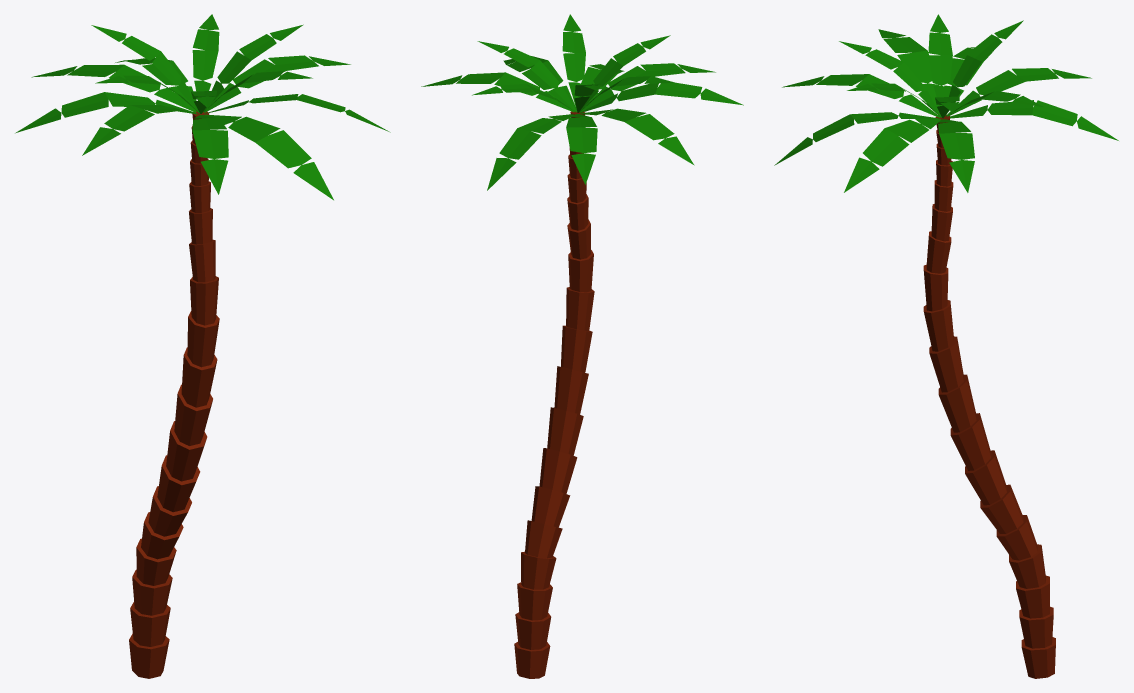
The model's file is palm_tree_2.obj.
3 views of the same model, side by side, from view 1: azimuth 30°, elevation 25°; view 2: azimuth 150°, elevation 25°; view 3: azimuth 270°, elevation 25° (orthographic). The views are drawn at different scales.
Visible parts, largest first — view 1: Plane.009_Plane.002, Cube_Cube.002, Plane.001; view 2: Cube_Cube.002, Plane.009_Plane.002, Plane.001; view 3: Plane.009_Plane.002, Cube_Cube.002, Plane.001.
Boxes of the visible parts, x1,y1,x2,y2 form: Plane.009_Plane.002: (15,14,390,200); Cube_Cube.002: (129,110,219,678); Plane.001: (19,15,388,197); Cube_Cube.002: (514,111,594,678); Plane.009_Plane.002: (421,14,743,190); Plane.001: (429,15,739,188); Plane.009_Plane.002: (774,14,1118,192); Cube_Cube.002: (923,114,1055,678); Plane.001: (779,15,1117,191).
Bounding box in the file's own units: 26.03 × 51.54 × 25.93.
